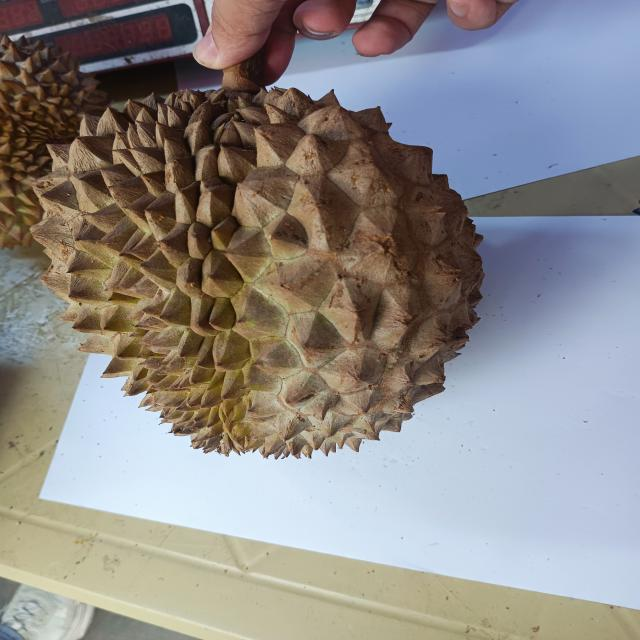mature: (39, 89, 483, 459)
